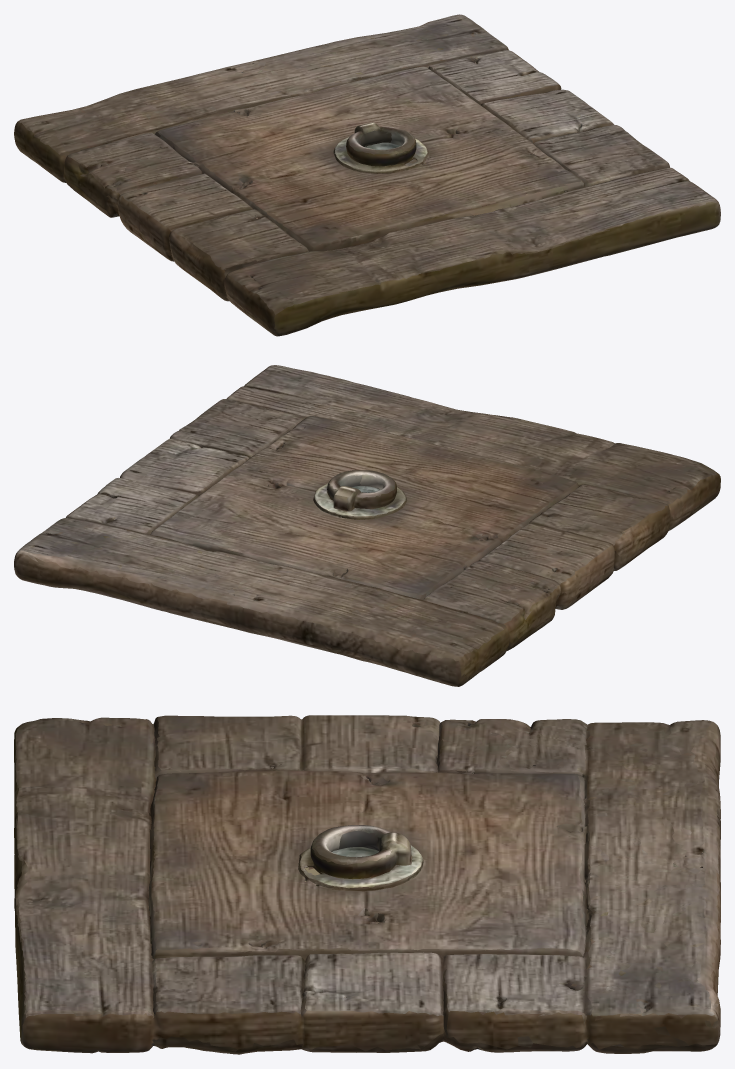
File: obj_study_floor_door.glb
3 views of the same model, one above another, from view 1: azimuth 30°, elevation 25°; view 2: azimuth 150°, elevation 25°; view 3: azimuth 270°, elevation 25° (orthographic). The views are drawn at different scales.
Visible parts, largest first — view 1: geometry_0; view 2: geometry_0; view 3: geometry_0.
Part boxes in pixels (<box>): geometry_0: <box>14,14,720,336</box>; geometry_0: <box>14,365,720,686</box>; geometry_0: <box>14,715,720,1054</box>.
Size of the model in its own units: 0.6 by 0.0875 by 0.6037.
Materials: 1 (1 with a texture image).
